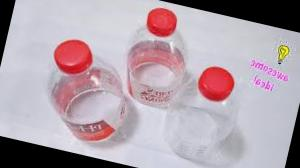plastic: (27, 31, 143, 160), (146, 54, 263, 168), (114, 0, 205, 115)
